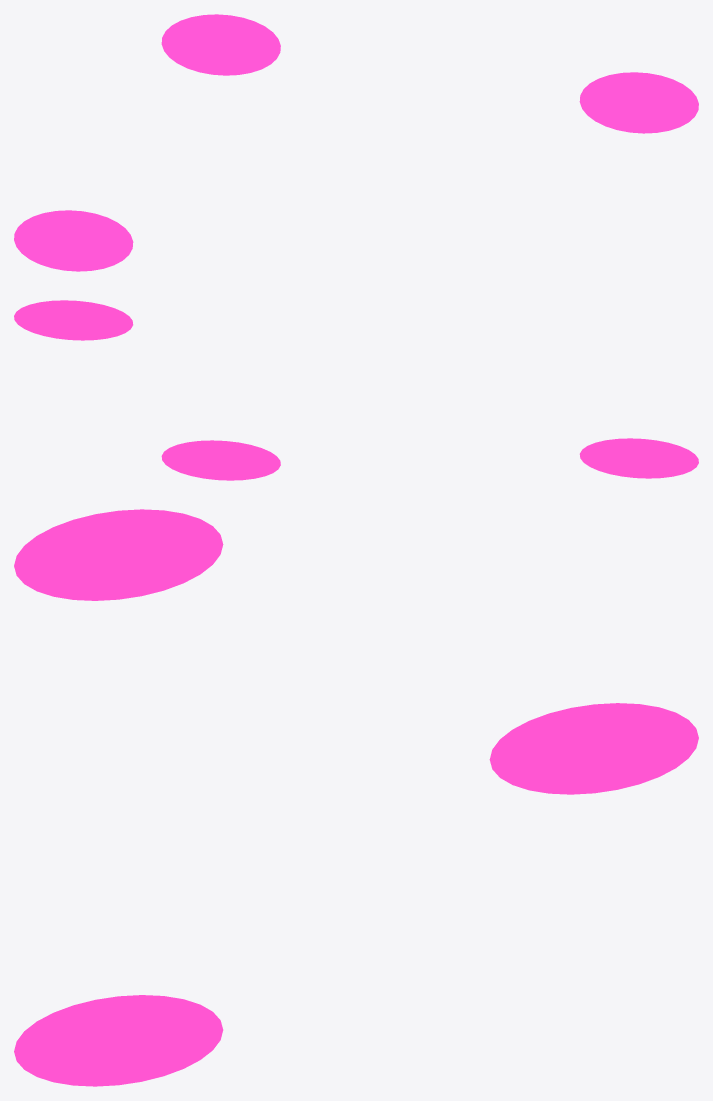
The model's file is pp_light_multiball.glb.
3 views of the same model, one above another, from view 1: azimuth 30°, elevation 25°; view 2: azimuth 150°, elevation 25°; view 3: azimuth 270°, elevation 25° (orthographic). The views are drawn at different scales.
Parts seen in each view (by area): view 1: MultiLight (×3); view 2: MultiLight (×3); view 3: MultiLight (×3).
Boxes of the visible parts, x1,y1,x2,y2 form: MultiLight (×3): [14, 14, 698, 271]; MultiLight (×3): [14, 300, 698, 480]; MultiLight (×3): [14, 509, 698, 1086].
Bounding box in the file's own units: 0.142 × 0.00815 × 0.0715.
